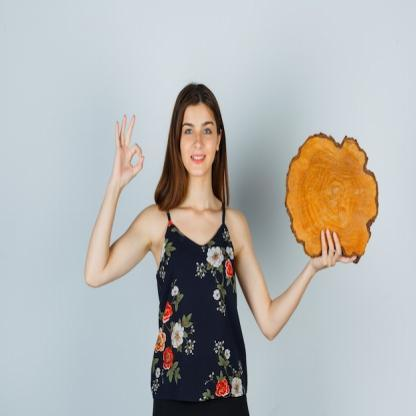ok: (112, 111, 146, 188)
